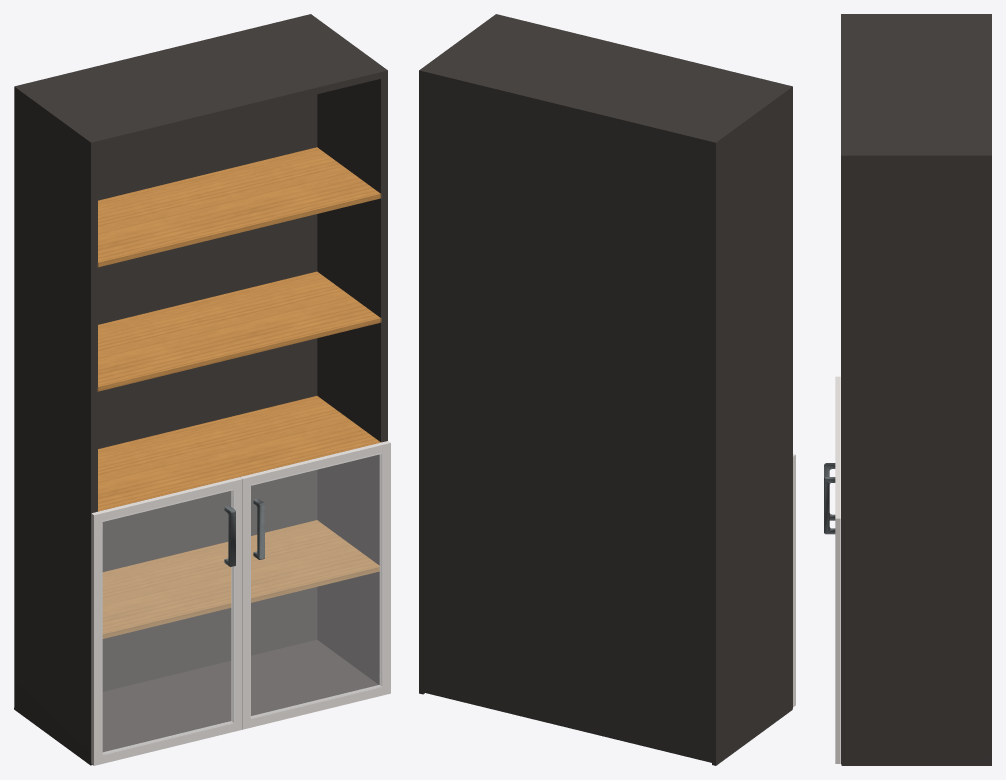
Rendered from Cupboard.glb.
The picture shows the model from 3 angles, left to right: view 1: azimuth 30°, elevation 25°; view 2: azimuth 150°, elevation 25°; view 3: azimuth 270°, elevation 25°; orthographic projection. The views are drawn at different scales.
Visible parts, largest first — view 1: Cupboard 900 450 1800 mm Half Glass Door; view 2: Cupboard 900 450 1800 mm Half Glass Door; view 3: Cupboard 900 450 1800 mm Half Glass Door.
Boxes of the visible parts, left/top/right/bottom form: Cupboard 900 450 1800 mm Half Glass Door: left=14, top=14, right=390, bottom=765; Cupboard 900 450 1800 mm Half Glass Door: left=419, top=14, right=795, bottom=765; Cupboard 900 450 1800 mm Half Glass Door: left=824, top=14, right=991, bottom=765.
Bounding box in the file's own units: 0.9007 × 1.81 × 0.45.
Materials: 1 (1 with a texture image).
